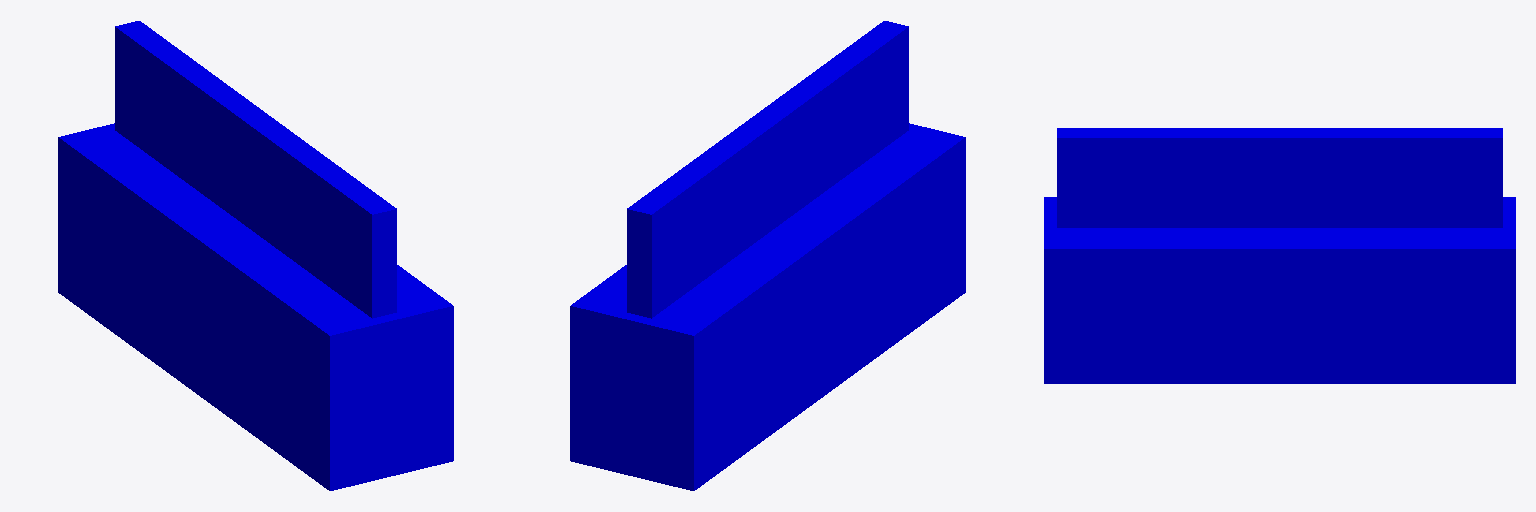
URDF robot description (robot):
<robot name = "robot">
    <link name="root">
        <inertial>
            <origin xyz="0.0 0.0 1.5" rpy="0 0 0"/>
            <mass value="1" />
            <inertia ixx="100" ixy="0" ixz="0" iyy="100" iyz="0" izz="100" />
        </inertial>
        <visual>
            <origin xyz="0.0 0.0 1.5" rpy="0 0 0"/>
            <geometry>
                <box size="0 0 0.0001" />
            </geometry>
            <material name="Green">
                <color rgba="0 1.0 0.0 1.0"/>
            </material>
        </visual>
        <collision>
            <origin xyz="0.0 0.0 1.5" rpy="0 0 0"/>
            <geometry>
                <box size="0 0 0.0001" />
            </geometry>
        </collision>
    </link>
    <joint name="root_000" type="revolute">
       <parent link="root"/>
       <child  link="000"/>
       <origin rpy="0 0 0" xyz="0.0 0.0 1.5" />
     <axis xyz="1 0 0"/>
       <limit effort="0.0" lower="-3.14159" upper="3.14159" velocity="0.0"/>
    </joint>
    <link name="000">
        <inertial>
            <origin xyz="0.0 0.3 0.0" rpy="0 0 0"/>
            <mass value="1" />
            <inertia ixx="100" ixy="0" ixz="0" iyy="100" iyz="0" izz="100" />
        </inertial>
        <visual>
            <origin xyz="0.0 0.3 0.0" rpy="0 0 0"/>
            <geometry>
                <box size="0.1 0.6 0.4" />
            </geometry>
            <material name="Blue">
                <color rgba="0 0.0 1.0 1.0"/>
            </material>
        </visual>
        <collision>
            <origin xyz="0.0 0.3 0.0" rpy="0 0 0"/>
            <geometry>
                <box size="0.1 0.6 0.4" />
            </geometry>
        </collision>
    </link>
    <joint name="000_010" type="revolute">
       <parent link="000"/>
       <child  link="010"/>
       <origin rpy="0 0 0" xyz="0.0 0.6 -0.0" />
     <axis xyz="0 1 0"/>
       <limit effort="0.0" lower="-3.14159" upper="3.14159" velocity="0.0"/>
    </joint>
    <link name="010">
        <inertial>
            <origin xyz="0.0 0.3 -0.0" rpy="0 0 0"/>
            <mass value="1" />
            <inertia ixx="100" ixy="0" ixz="0" iyy="100" iyz="0" izz="100" />
        </inertial>
        <visual>
            <origin xyz="0.0 0.3 -0.0" rpy="0 0 0"/>
            <geometry>
                <box size="0.1 0.6 0.4" />
            </geometry>
            <material name="Blue">
                <color rgba="0 0.0 1.0 1.0"/>
            </material>
        </visual>
        <collision>
            <origin xyz="0.0 0.3 -0.0" rpy="0 0 0"/>
            <geometry>
                <box size="0.1 0.6 0.4" />
            </geometry>
        </collision>
    </link>
    <joint name="010_020" type="revolute">
       <parent link="010"/>
       <child  link="020"/>
       <origin rpy="0 0 0" xyz="0.0 0.6 -0.0" />
     <axis xyz="0 1 0"/>
       <limit effort="0.0" lower="-3.14159" upper="3.14159" velocity="0.0"/>
    </joint>
    <link name="020">
        <inertial>
            <origin xyz="0.0 0.3 -0.0" rpy="0 0 0"/>
            <mass value="1" />
            <inertia ixx="100" ixy="0" ixz="0" iyy="100" iyz="0" izz="100" />
        </inertial>
        <visual>
            <origin xyz="0.0 0.3 -0.0" rpy="0 0 0"/>
            <geometry>
                <box size="0.1 0.6 0.4" />
            </geometry>
            <material name="Blue">
                <color rgba="0 0.0 1.0 1.0"/>
            </material>
        </visual>
        <collision>
            <origin xyz="0.0 0.3 -0.0" rpy="0 0 0"/>
            <geometry>
                <box size="0.1 0.6 0.4" />
            </geometry>
        </collision>
    </link>
    <joint name="020_020-100" type="revolute">
       <parent link="020"/>
       <child  link="020-100"/>
       <origin rpy="0 0 0" xyz="0.0 0.3 -0.2" />
     <axis xyz="0 0 1"/>
       <limit effort="0.0" lower="-3.14159" upper="3.14159" velocity="0.0"/>
    </joint>
    <link name="020-100">
        <inertial>
            <origin xyz="0.0 0.0 -0.3" rpy="0 0 0"/>
            <mass value="1" />
            <inertia ixx="100" ixy="0" ixz="0" iyy="100" iyz="0" izz="100" />
        </inertial>
        <visual>
            <origin xyz="0.0 0.0 -0.3" rpy="0 0 0"/>
            <geometry>
                <box size="0.5 0.7 0.6" />
            </geometry>
            <material name="Blue">
                <color rgba="0 0.0 1.0 1.0"/>
            </material>
        </visual>
        <collision>
            <origin xyz="0.0 0.0 -0.3" rpy="0 0 0"/>
            <geometry>
                <box size="0.5 0.7 0.6" />
            </geometry>
        </collision>
    </link>
    <joint name="010_010-100" type="revolute">
       <parent link="010"/>
       <child  link="010-100"/>
       <origin rpy="0 0 0" xyz="0.0 0.3 -0.2" />
     <axis xyz="0 0 1"/>
       <limit effort="0.0" lower="-3.14159" upper="3.14159" velocity="0.0"/>
    </joint>
    <link name="010-100">
        <inertial>
            <origin xyz="0.0 0.0 -0.3" rpy="0 0 0"/>
            <mass value="1" />
            <inertia ixx="100" ixy="0" ixz="0" iyy="100" iyz="0" izz="100" />
        </inertial>
        <visual>
            <origin xyz="0.0 0.0 -0.3" rpy="0 0 0"/>
            <geometry>
                <box size="0.5 0.7 0.6" />
            </geometry>
            <material name="Blue">
                <color rgba="0 0.0 1.0 1.0"/>
            </material>
        </visual>
        <collision>
            <origin xyz="0.0 0.0 -0.3" rpy="0 0 0"/>
            <geometry>
                <box size="0.5 0.7 0.6" />
            </geometry>
        </collision>
    </link>
    <joint name="000_000-100" type="revolute">
       <parent link="000"/>
       <child  link="000-100"/>
       <origin rpy="0 0 0" xyz="0.0 0.3 -0.2" />
     <axis xyz="0 0 1"/>
       <limit effort="0.0" lower="-3.14159" upper="3.14159" velocity="0.0"/>
    </joint>
    <link name="000-100">
        <inertial>
            <origin xyz="0.0 0.0 -0.3" rpy="0 0 0"/>
            <mass value="1" />
            <inertia ixx="100" ixy="0" ixz="0" iyy="100" iyz="0" izz="100" />
        </inertial>
        <visual>
            <origin xyz="0.0 0.0 -0.3" rpy="0 0 0"/>
            <geometry>
                <box size="0.5 0.7 0.6" />
            </geometry>
            <material name="Blue">
                <color rgba="0 0.0 1.0 1.0"/>
            </material>
        </visual>
        <collision>
            <origin xyz="0.0 0.0 -0.3" rpy="0 0 0"/>
            <geometry>
                <box size="0.5 0.7 0.6" />
            </geometry>
        </collision>
    </link>
</robot>

--- Render facts (derived) ---
Views: 3 orthographic renders of the robot side by side, from view 1: azimuth 30°, elevation 25°; view 2: azimuth 150°, elevation 25°; view 3: azimuth 270°, elevation 25°.
Robot: robot — 7 links, 6 joints (6 revolute); root link root; default pose: every joint at zero.
Links seen in each view (by area): view 1: 000-100, 010-100, 020-100, 000, 020, 010; view 2: 020-100, 010-100, 000-100, 020, 000, 010; view 3: 020-100, 000-100, 010-100, 000, 020, 010.
Link boxes in pixels (box(x1,y1,x2,y2)): 000-100: box(238, 252, 453, 490); 010-100: box(144, 198, 292, 427); 020-100: box(58, 123, 206, 364); 000: box(287, 146, 396, 318); 020: box(115, 21, 224, 192); 010: box(201, 83, 309, 255); 020-100: box(570, 251, 793, 490); 010-100: box(745, 188, 879, 427); 000-100: box(831, 123, 965, 359); 020: box(627, 146, 736, 318); 000: box(799, 21, 908, 192); 010: box(714, 83, 822, 255); 020-100: box(1342, 197, 1515, 383); 000-100: box(1044, 197, 1217, 383); 010-100: box(1193, 228, 1366, 383); 000: box(1057, 128, 1205, 227); 020: box(1354, 128, 1502, 227); 010: box(1206, 128, 1353, 227).
Size in the robot's own frame: 0.5 by 1.9 by 1 metres.
Geometry: primitives only (box / cylinder / sphere), no mesh files.
